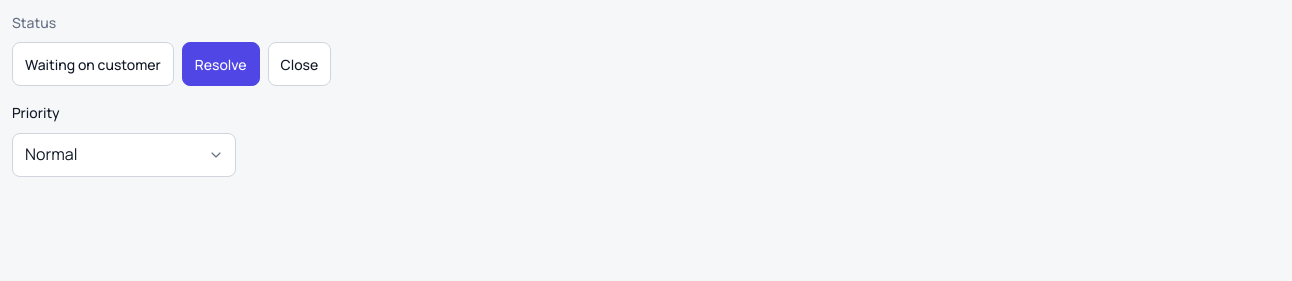
Test: a lost race › refetches the view so the agent sees what moved under them
Click the button "Waiting on customer": [93, 64] box [12,42,174,86]
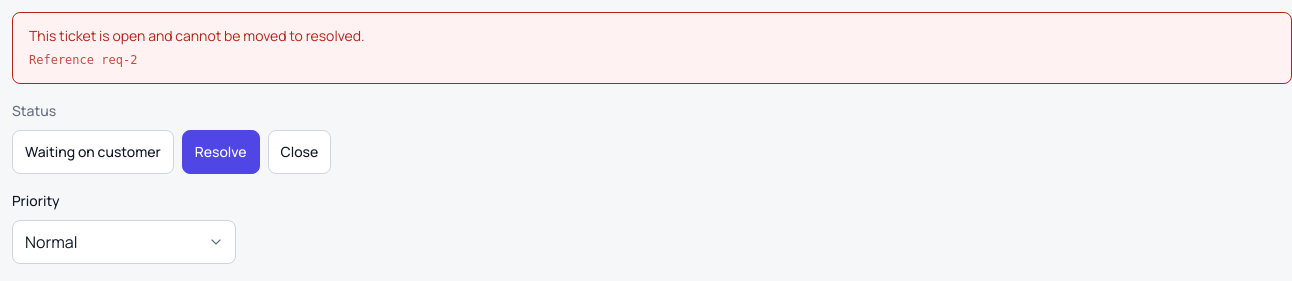
Result: the message shows "This ticket is open and cannot be moved to resolved." at [29,26,364,45]
